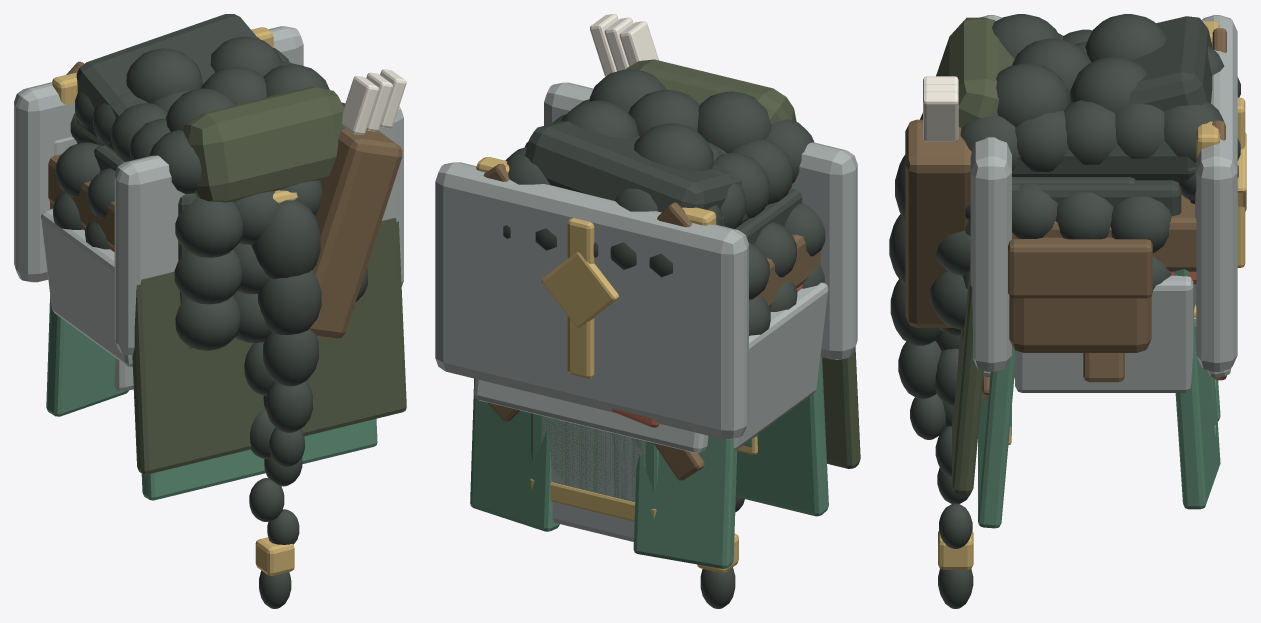
File: customization.glb
3 renders of one model, left to right at view 1: azimuth 30°, elevation 25°; view 2: azimuth 150°, elevation 25°; view 3: azimuth 270°, elevation 25°, orthographic. The views are drawn at different scales.
Visible parts, largest first — view 1: Chest__Cape, Chest__Hood, Chest__Quiver, Chest__Cuirass_Back, Chest__Cuirass_Front, Hips__Tasset_Left, Swept_Quiff, Hips__Coat_Back, Hips__Coat_Left, Tied_Tail_0, Curl_27, Tied_Tail_1 (+35 smaller); view 2: Chest__Cuirass_Front, Chest__Breastplate, Hips__Coat_Left, Chest__Cuirass_Back, Swept_Quiff, Hips__Coat_Right, Hips__Coat_Back, Hips__Tasset_Left, LeftLeg__Greave, Hips__Tabard_Front, Hips__Fauld_Lower_Front, Chest__Cape (+28 smaller); view 3: Chest__Cuirass_Front, Chest__Quiver, Hips__Tasset_Right, Chest__Cuirass_Back, Hips__Satchel_Flap, Hips__Satchel, Swept_Quiff, Hips__Coat_Right, Chest__Hood, Hips__Coat_Back, Chest__Cape, Curl_58 (+35 smaller).
Part boxes in pixels (x1,y1,x2,y2): Chest__Cape: [132, 217, 406, 474]; Chest__Hood: [183, 86, 345, 202]; Chest__Quiver: [309, 128, 402, 338]; Chest__Cuirass_Back: [114, 106, 403, 355]; Chest__Cuirass_Front: [14, 26, 303, 282]; Hips__Tasset_Left: [41, 208, 132, 366]; Swept_Quiff: [76, 14, 258, 118]; Hips__Coat_Back: [141, 418, 377, 500]; Hips__Coat_Left: [46, 203, 128, 416]; Tied_Tail_0: [251, 200, 320, 278]; Curl_27: [175, 197, 243, 257]; Tied_Tail_1: [258, 270, 321, 334]; Chest__Cuirass_Front: [435, 162, 748, 439]; Chest__Breastplate: [450, 190, 713, 404]; Hips__Coat_Left: [633, 436, 737, 568]; Chest__Cuirass_Back: [544, 82, 857, 359]; Swept_Quiff: [525, 121, 741, 212]; Hips__Coat_Right: [470, 378, 559, 531]; Hips__Coat_Back: [735, 357, 828, 516]; Hips__Tasset_Left: [733, 282, 828, 450]; LeftLeg__Greave: [541, 416, 645, 541]; Hips__Tabard_Front: [531, 413, 658, 501]; Hips__Fauld_Lower_Front: [474, 379, 708, 453]; Chest__Cape: [822, 347, 860, 468]; Chest__Cuirass_Front: [1196, 15, 1237, 371]; Chest__Quiver: [905, 119, 971, 327]; Hips__Tasset_Right: [1015, 275, 1193, 392]; Chest__Cuirass_Back: [970, 15, 1011, 371]; Hips__Satchel_Flap: [1008, 239, 1152, 298]; Hips__Satchel: [1009, 237, 1151, 352]; Swept_Quiff: [1129, 16, 1212, 111]; Hips__Coat_Right: [1174, 269, 1220, 509]; Chest__Hood: [936, 17, 1014, 127]; Hips__Coat_Back: [978, 346, 1014, 528]; Chest__Cape: [952, 262, 983, 494]; Curl_58: [996, 63, 1070, 127].
Bounding box in the file's own units: 0.63 × 1.07 × 0.6017.
